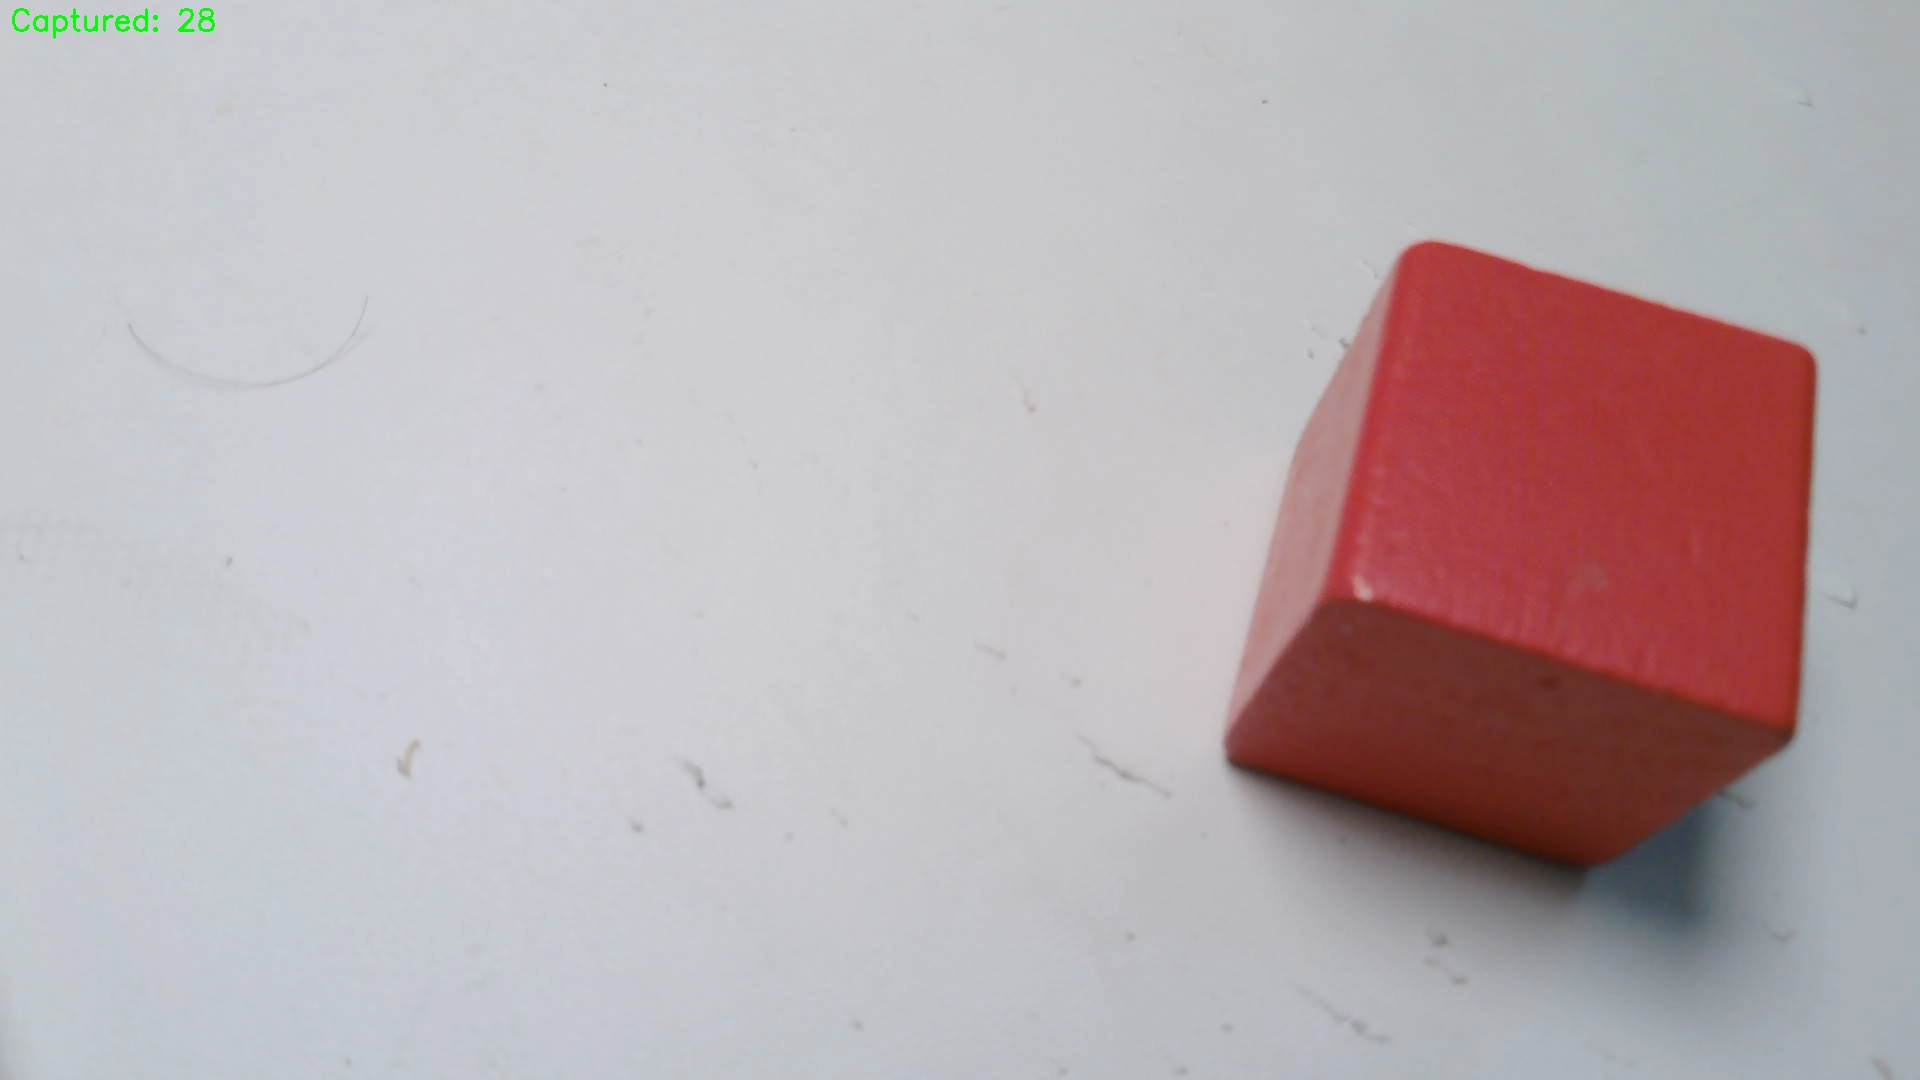red: (1228, 240, 1818, 880)
